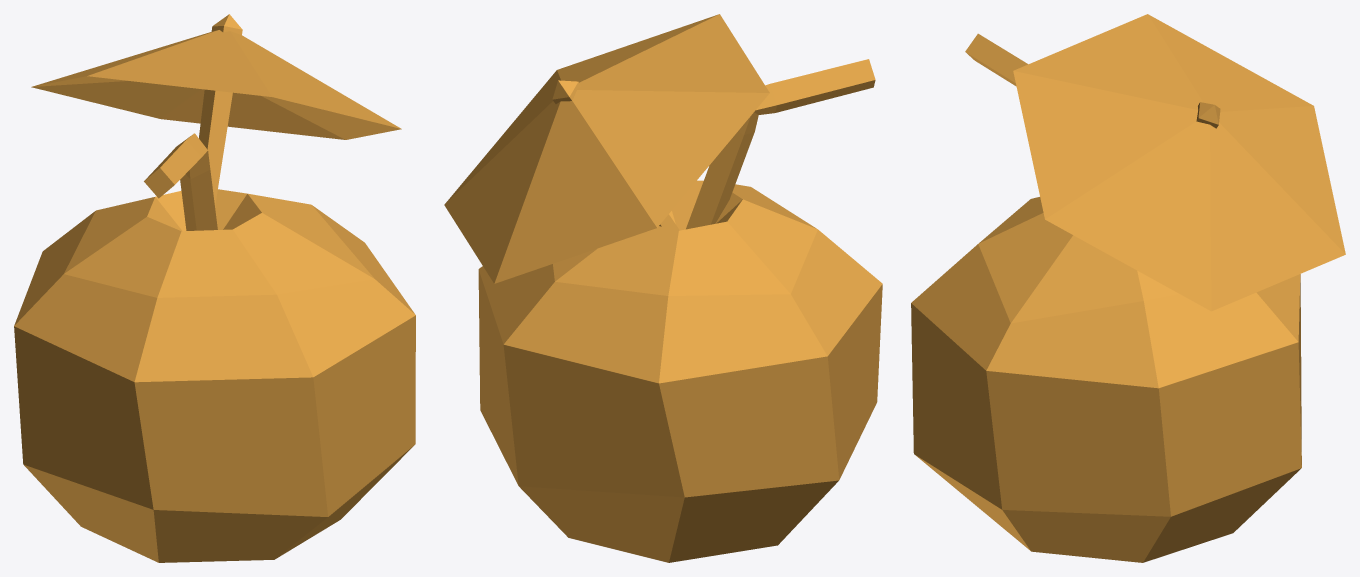
Rendered from drinks-drink-coconut.glb.
3 views of the same model, side by side, from view 1: azimuth 30°, elevation 25°; view 2: azimuth 150°, elevation 25°; view 3: azimuth 270°, elevation 25° (orthographic).
Parts seen in each view (by area): view 1: drink-coconut; view 2: drink-coconut; view 3: drink-coconut.
Part boxes in pixels (<box>): drink-coconut: <box>14,14,415,562</box>; drink-coconut: <box>444,14,882,562</box>; drink-coconut: <box>911,14,1345,562</box>.
Bounding box in the file's own units: 0.192 × 0.2437 × 0.2044.
